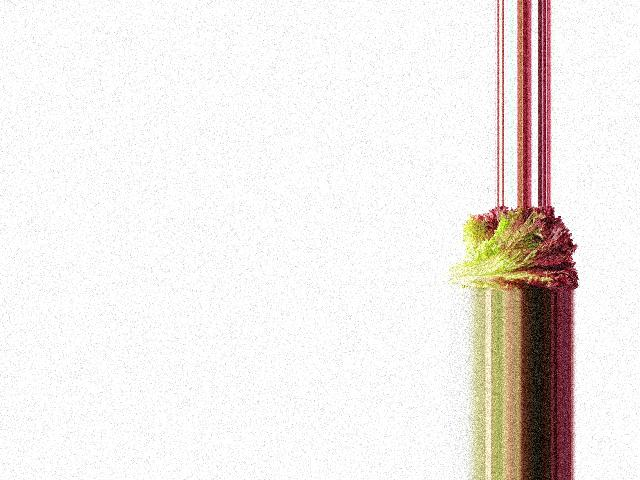lettuce: (443, 207, 586, 290)
